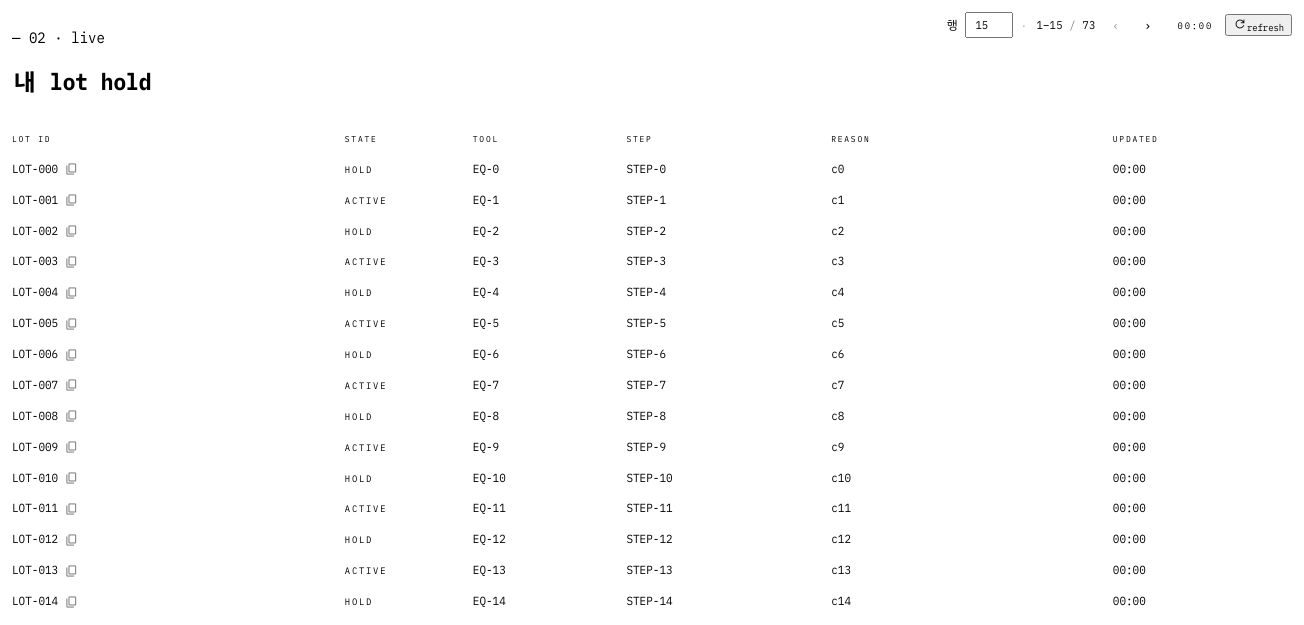
Test: LotHoldPanel 페이지네이션 (시안 C 인-헤더 범위 스테퍼) › 다음/이전 버튼으로 페이지를 이동하고 범위 표기가 갱신된다
This screenshot has width=1304, height=625.
What coordinates should you click on to do the following:
click the button named "다음 페이지"
I would click on:
 (1148, 25)
Its box is x1=1136 y1=13 x2=1160 y2=37.
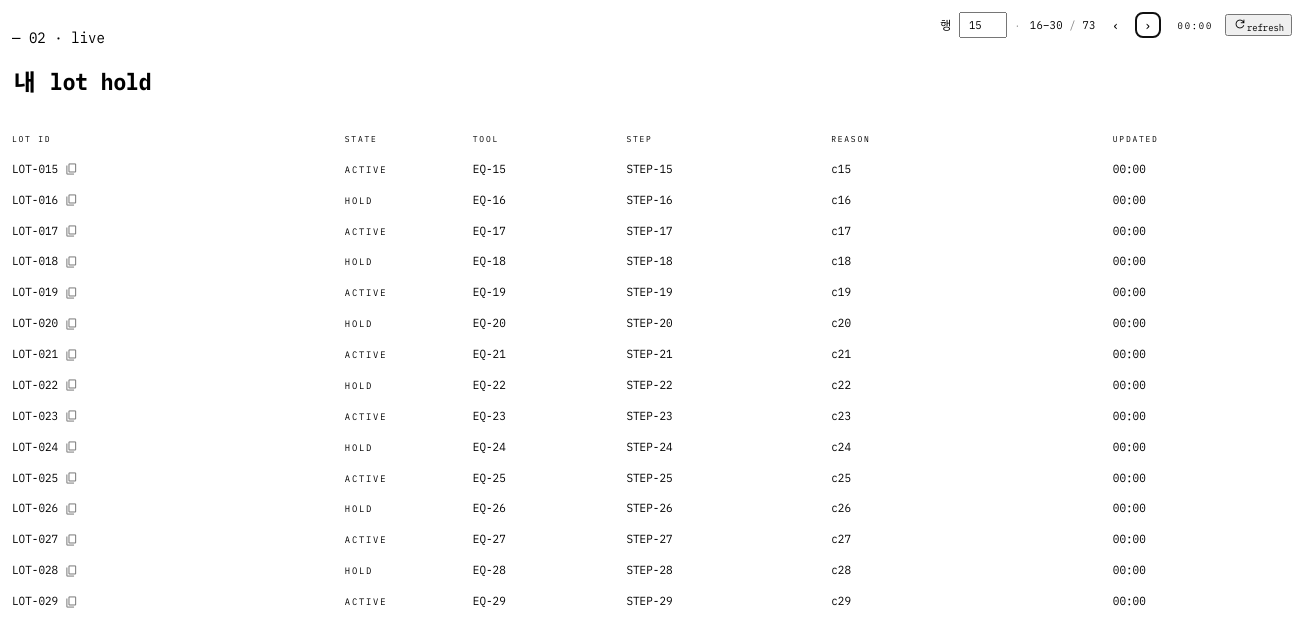
Check: the text "LOT-015" is shown, box x1=12 y1=161 x2=58 y2=178
Check: the text "LOT-000" is gone
What coordinates should you click on to do the following:
click the button named "이전 페이지"
I would click on:
 (1116, 25)
Its box is x1=1104 y1=13 x2=1128 y2=37.
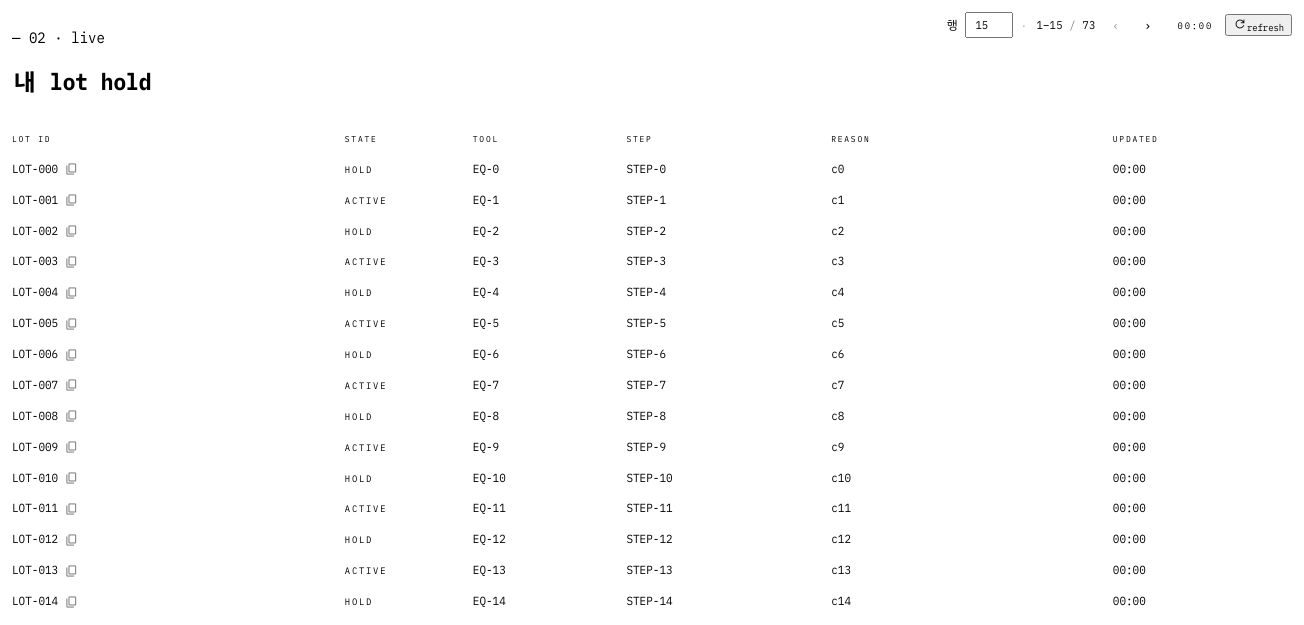
Check: the text "LOT-000" is shown, box x1=12 y1=161 x2=58 y2=178
